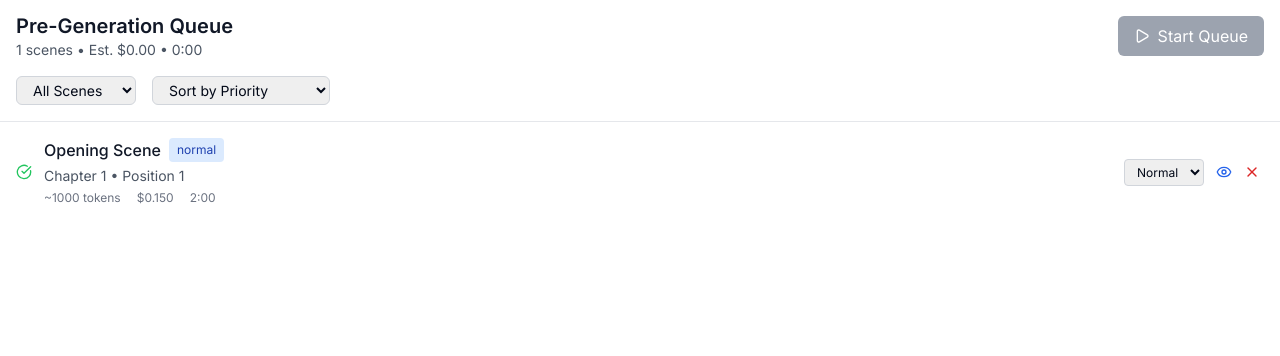
Test: PreGenerationQueue › Preview Functionality › shows word count for completed scenes
This screenshot has width=1280, height=356.
Note: Expand details
Click the text "Opening Scene" at [103, 150], box [0,122,1279,222]
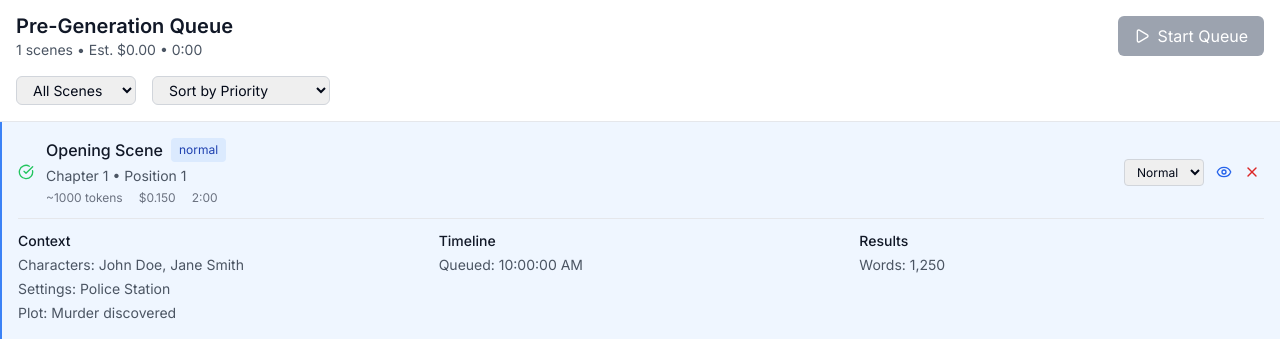
Expected: the text "Words: 1,250" is shown, [859,256,945,273]
